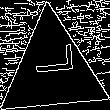L_W: (28, 52, 77, 87)
